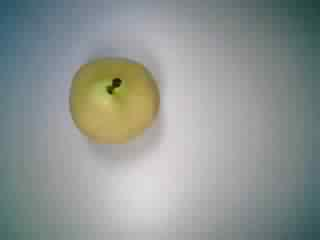pear: (61, 50, 164, 150)
